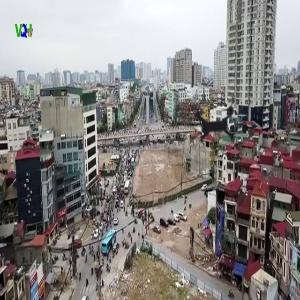drone: (166, 73, 266, 173)
